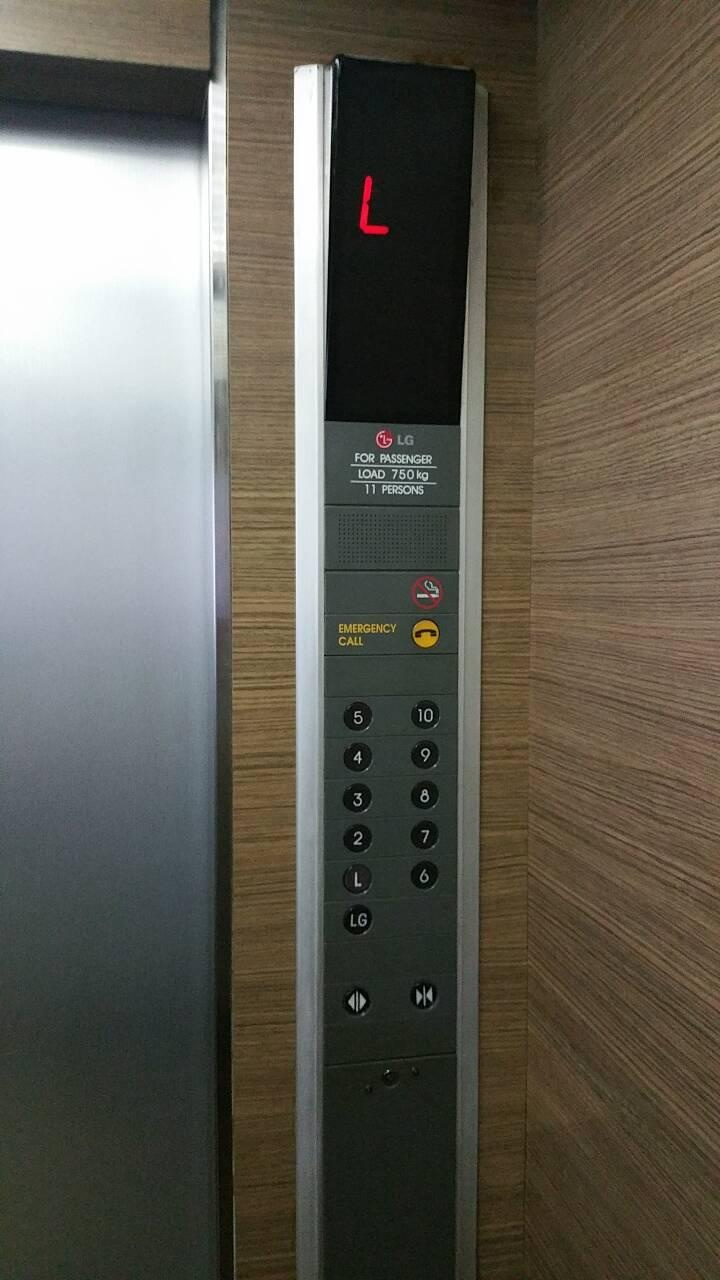10: (408, 698, 440, 730)
2: (341, 822, 373, 854)
3: (342, 782, 374, 814)
4: (342, 741, 374, 773)
5: (341, 700, 374, 733)
6: (409, 860, 441, 892)
7: (409, 818, 441, 850)
8: (409, 778, 441, 810)
9: (409, 738, 441, 770)
L: (342, 863, 374, 895)
LG: (341, 904, 373, 936)
call: (412, 618, 440, 650)
close: (408, 981, 439, 1011)
led: (322, 53, 477, 424)
open: (342, 986, 373, 1017)
